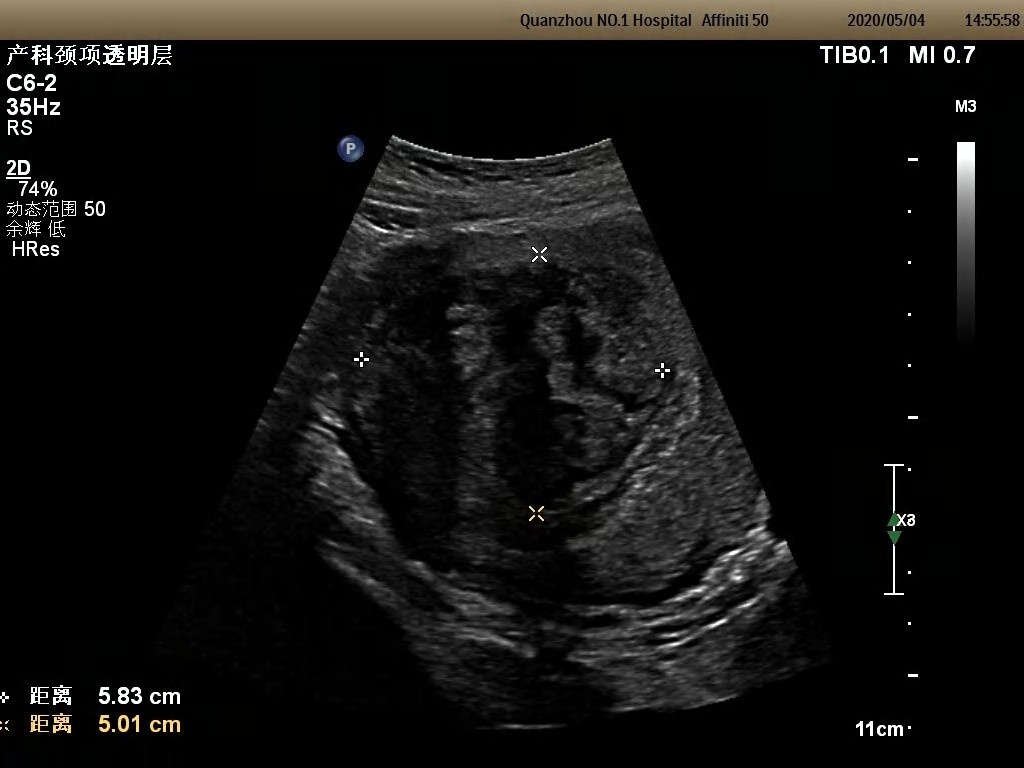肌瘤: (389, 275, 641, 491)
